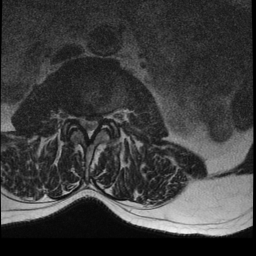CCS_normal: (86, 109, 93, 144)
LFS_stenosis: (100, 105, 108, 128)
LLS_stenosis: (93, 109, 100, 137)
RFS_stenosis: (72, 104, 79, 130)
RLS_normal: (79, 107, 86, 134)
